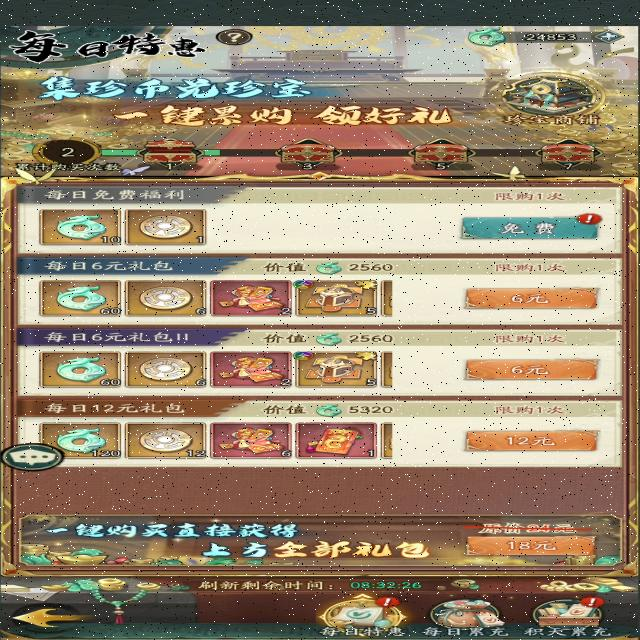hint-reddot: (575, 212, 606, 226)
navigation-DailyDiscount: (308, 594, 416, 638)
navigation-dailySum: (424, 594, 519, 639)
navigation-jitianSum: (524, 594, 612, 638)
navigation-treasureMall: (501, 71, 604, 128)
operation-back: (7, 602, 95, 632)
operation-buy: (452, 284, 610, 311), (454, 215, 602, 242), (458, 427, 602, 454), (458, 534, 602, 559), (456, 358, 606, 381)
ref-buytext: (37, 185, 196, 203), (31, 400, 193, 417), (36, 330, 198, 344), (31, 258, 179, 272)
